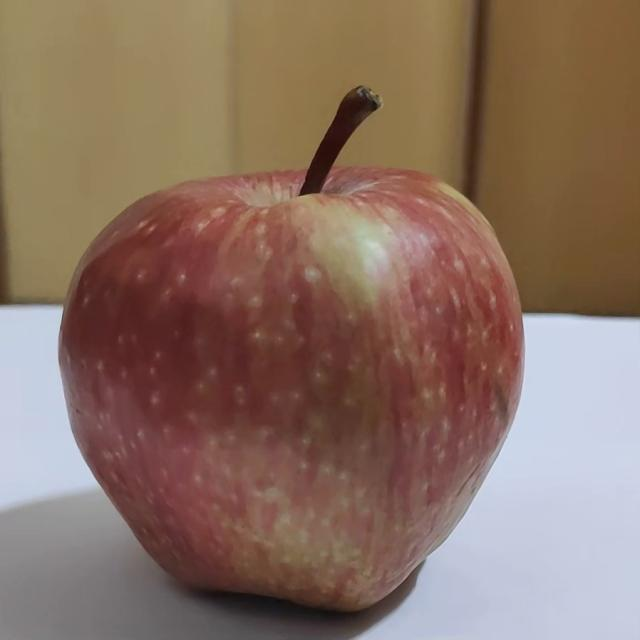Wet: (57, 83, 526, 623)
